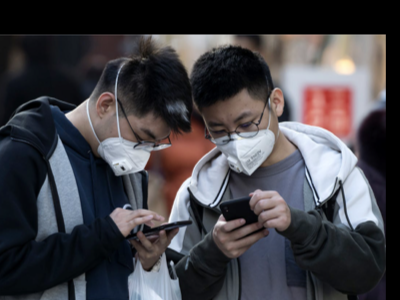with_mask: (205, 107, 279, 167), (97, 121, 161, 178)
